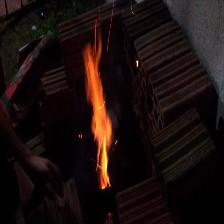fire: (66, 24, 150, 197)
